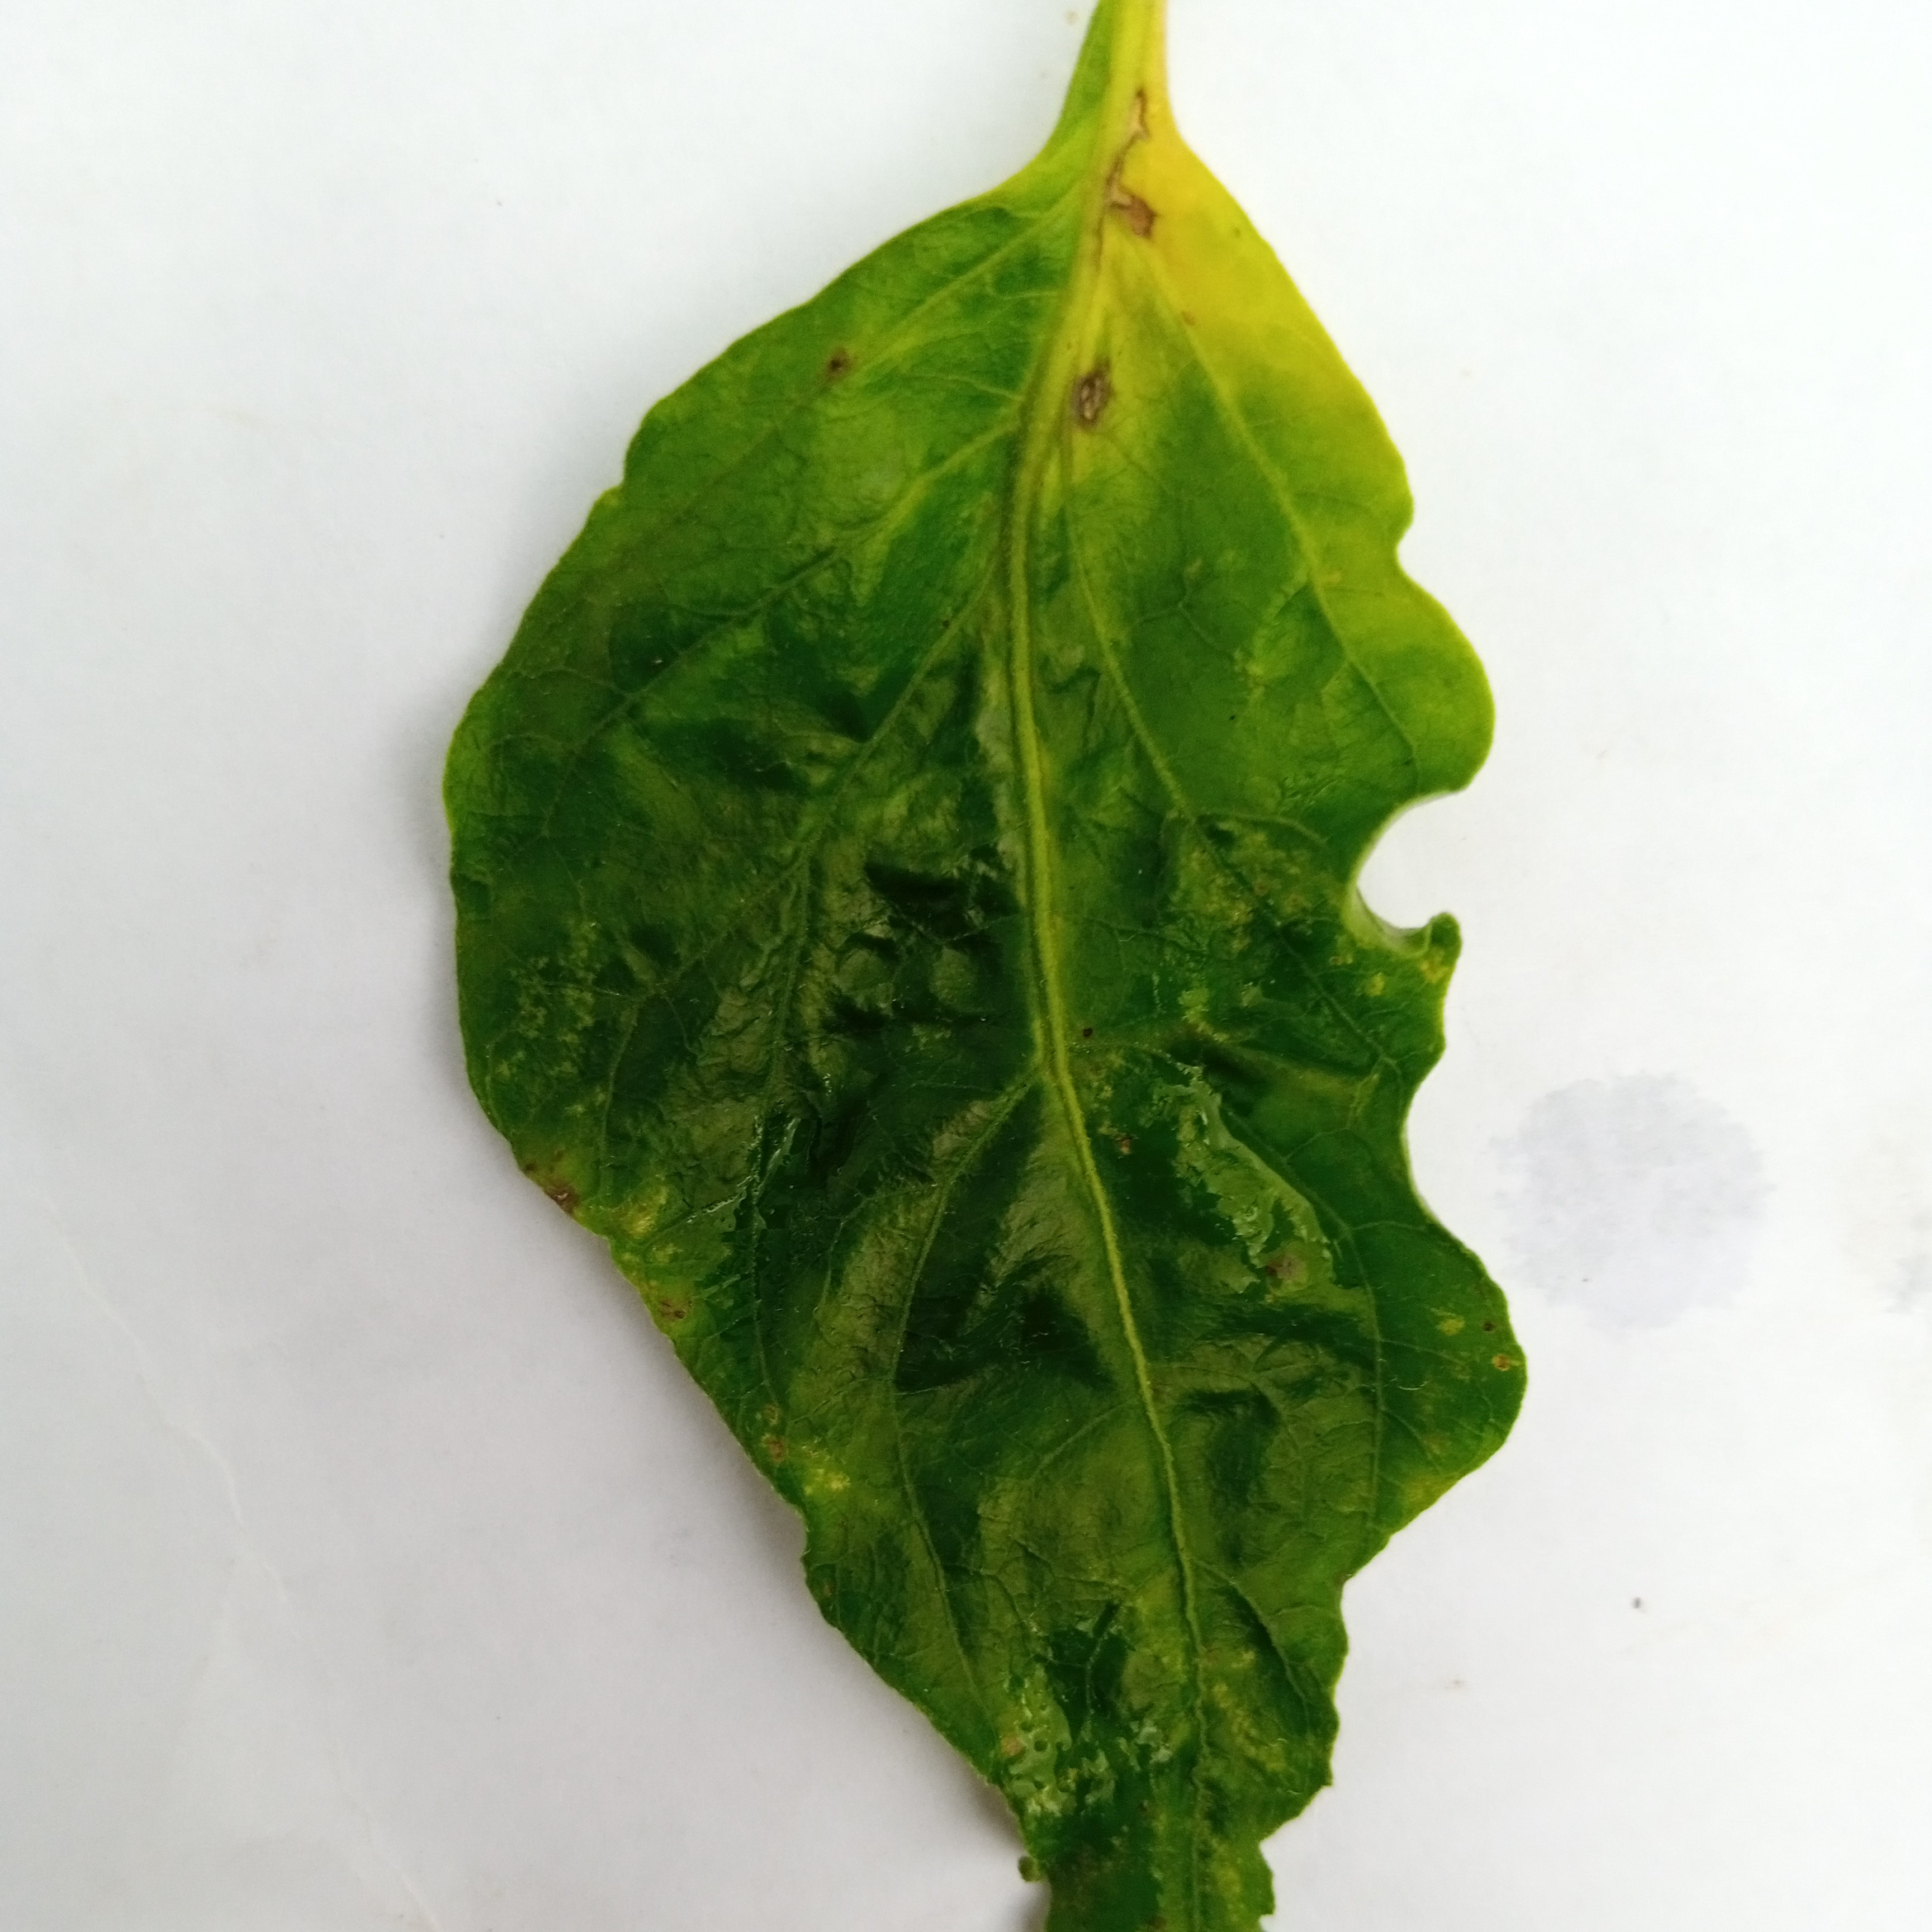Leaf: (301, 58, 1716, 1932)
